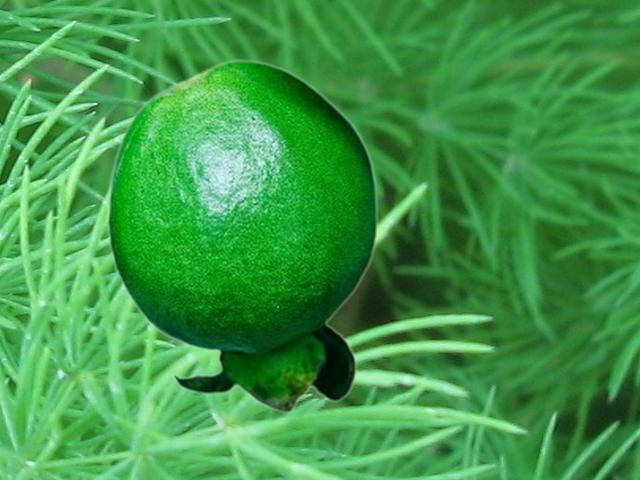guava: (105, 59, 378, 412)
